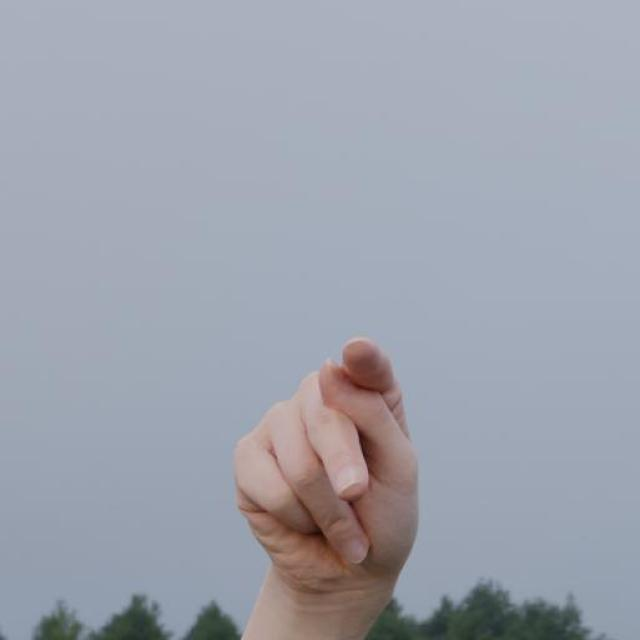P: (232, 331, 424, 590)
